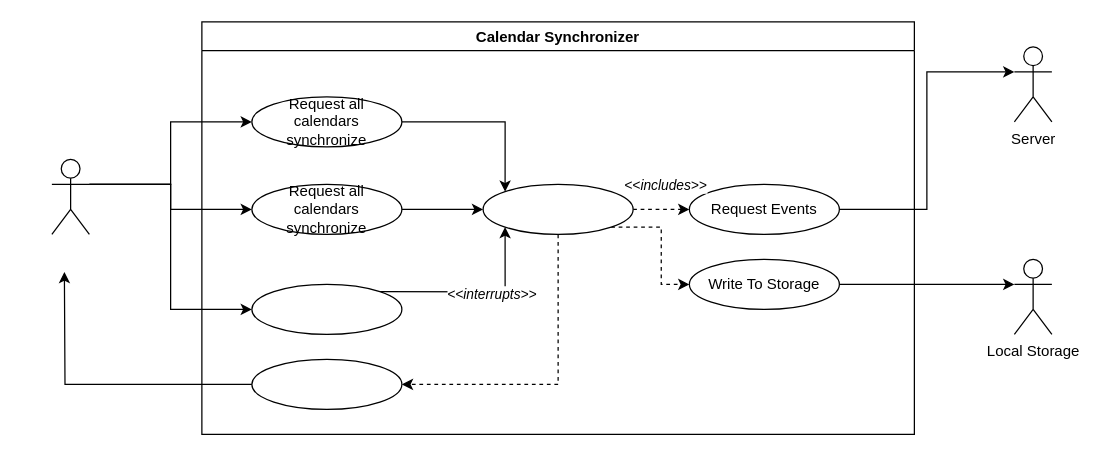
Image size: 1101x456. Some labels were removed from this diagram. Here are the shapes that lost their labels. From the top down, the box of each, then its label:
(51, 158, 89, 234): Calendar View
(482, 183, 633, 234): Synchronize Events
(251, 283, 402, 334): Cancel Request
(251, 358, 402, 409): Inform Completion
